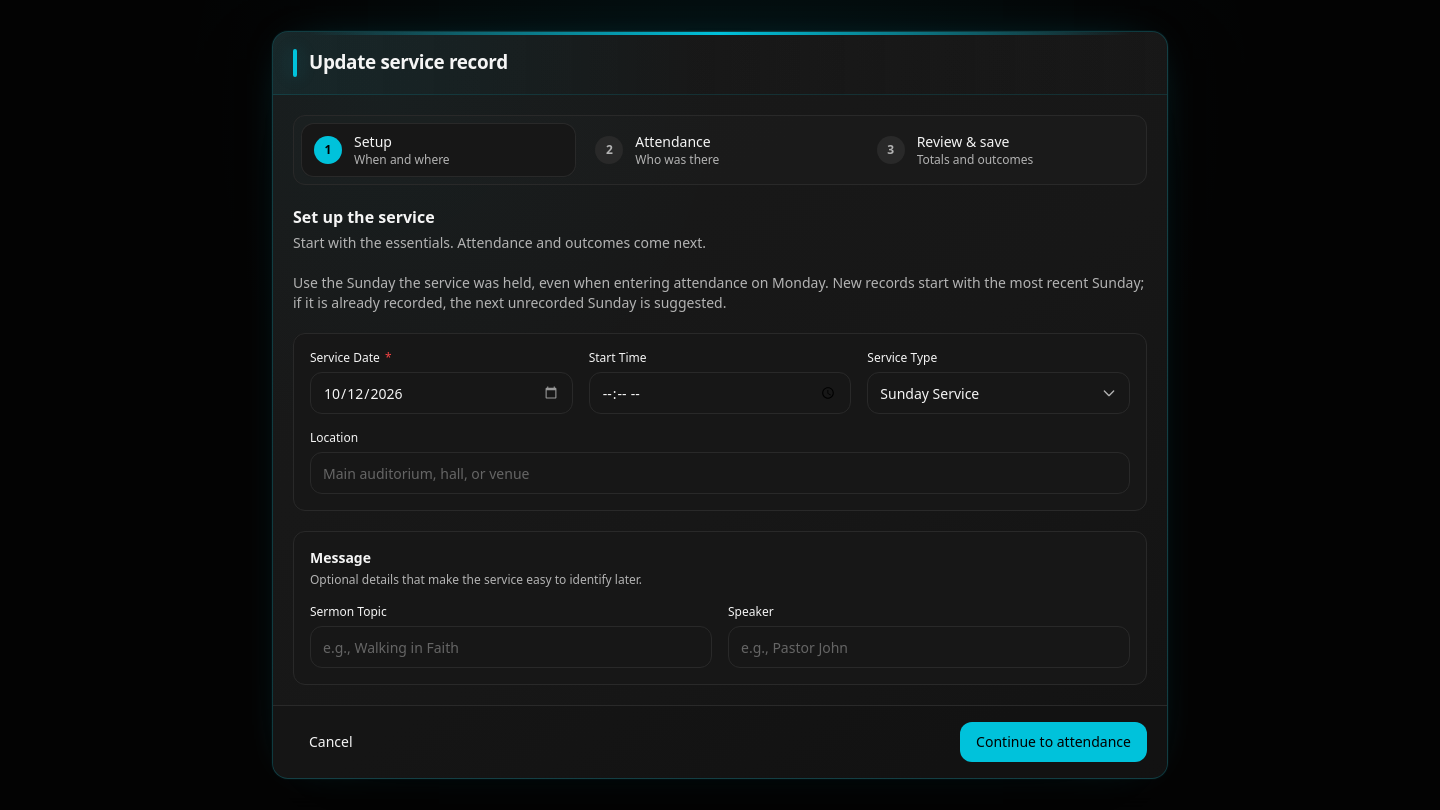
Test: keeps an accidental weekday record editable and asks for a Sunday
Step 1. Click the button "2 Attendance Who was there" → (720, 150), box [583, 124, 857, 176]
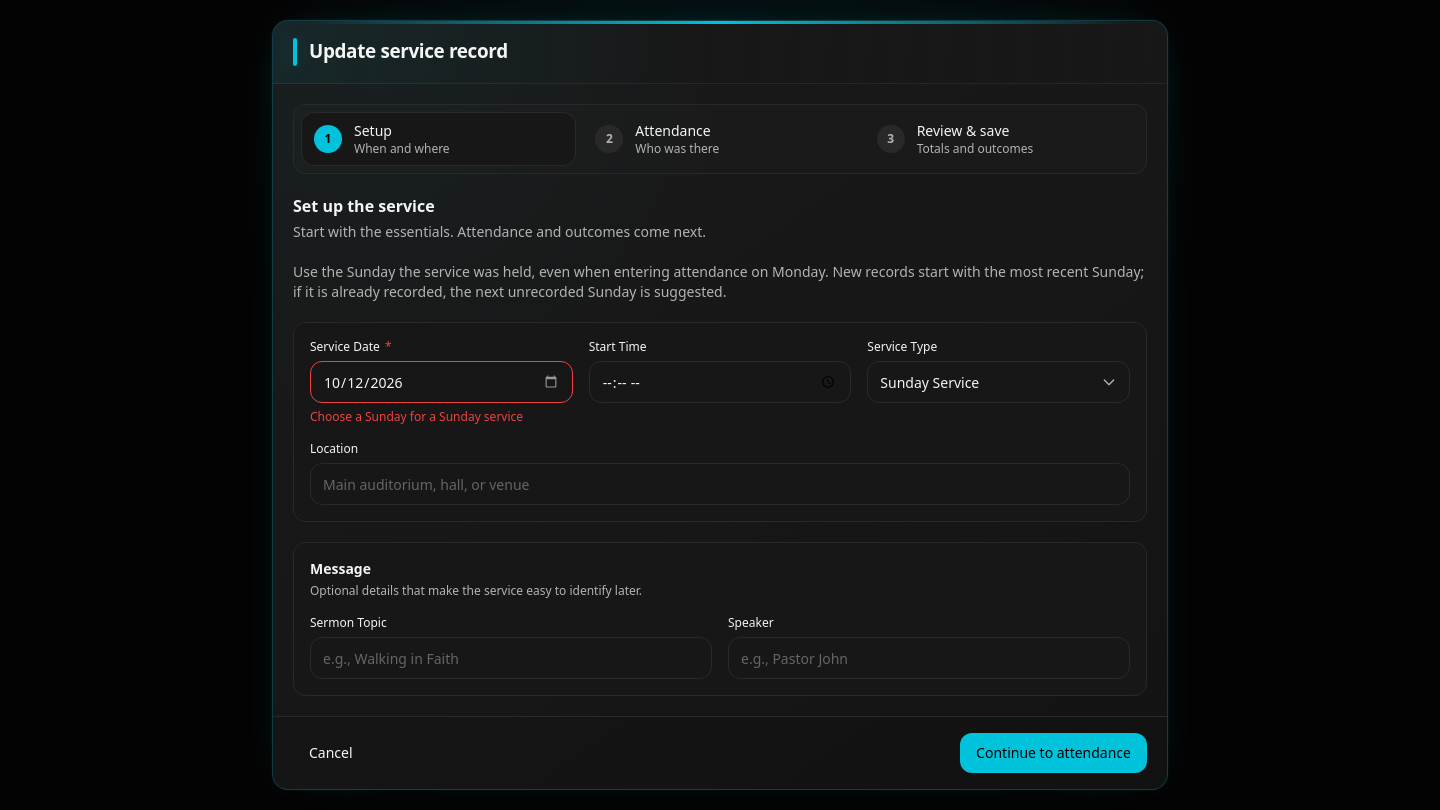
Check: the text "Choose a Sunday for a Sunday service" is shown, box [310, 408, 523, 425]
Step 2. Type "2026-10-11" into the date field labelled "Service Date *" → (441, 382), box [311, 362, 572, 402]
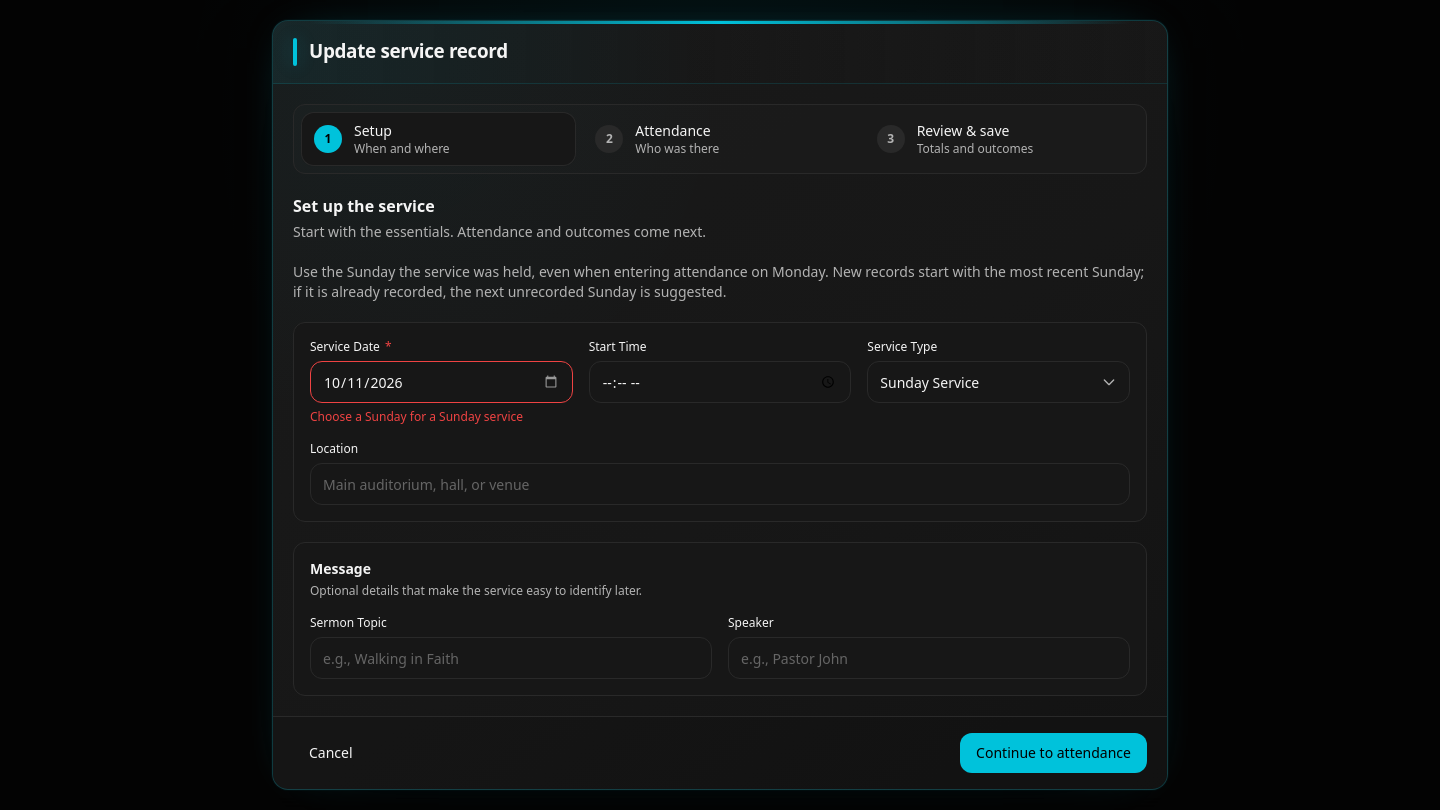
Step 3. Click the button "2 Attendance Who was there" → (720, 139), box [583, 113, 857, 165]
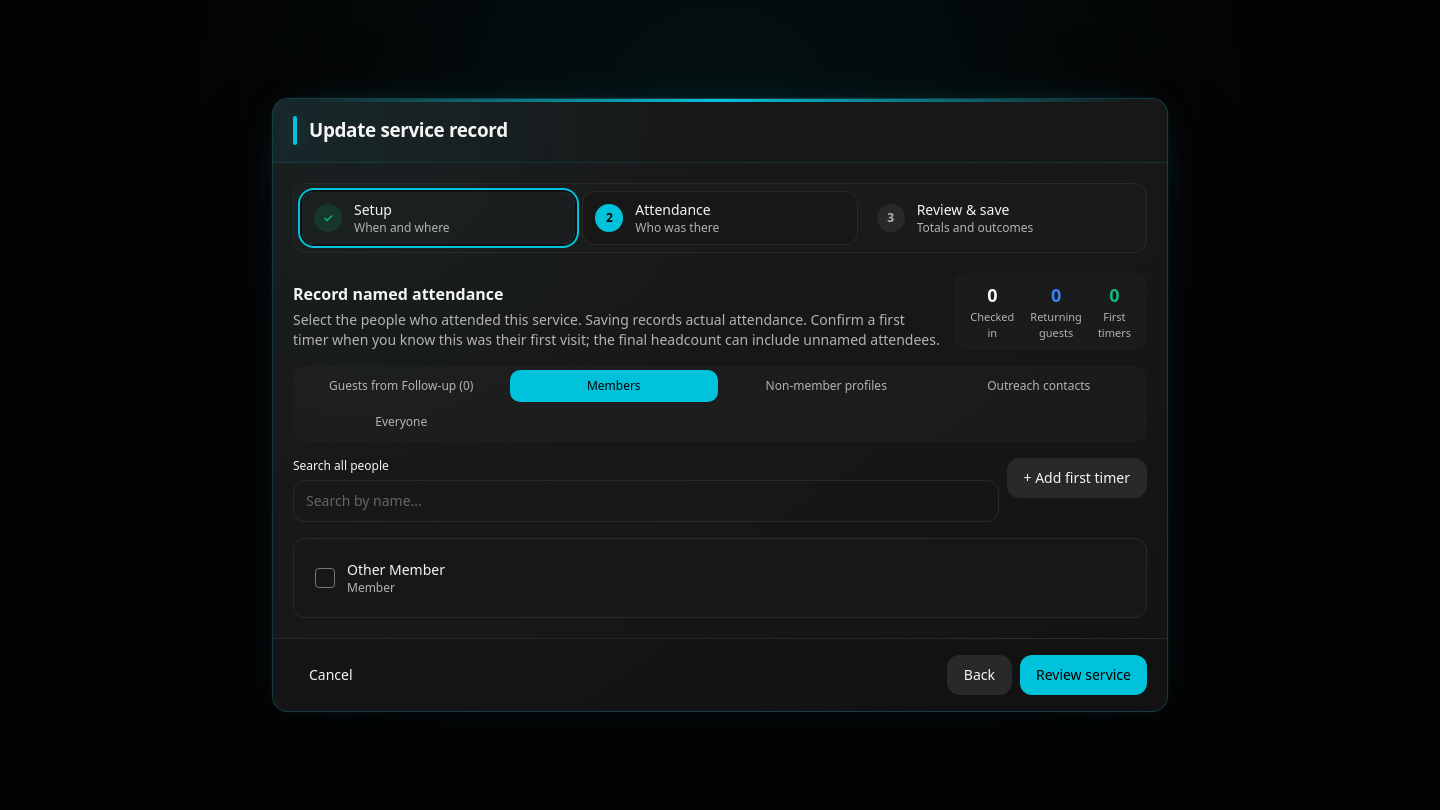
Check: the heading "Record named attendance" is shown, box [293, 283, 504, 305]
